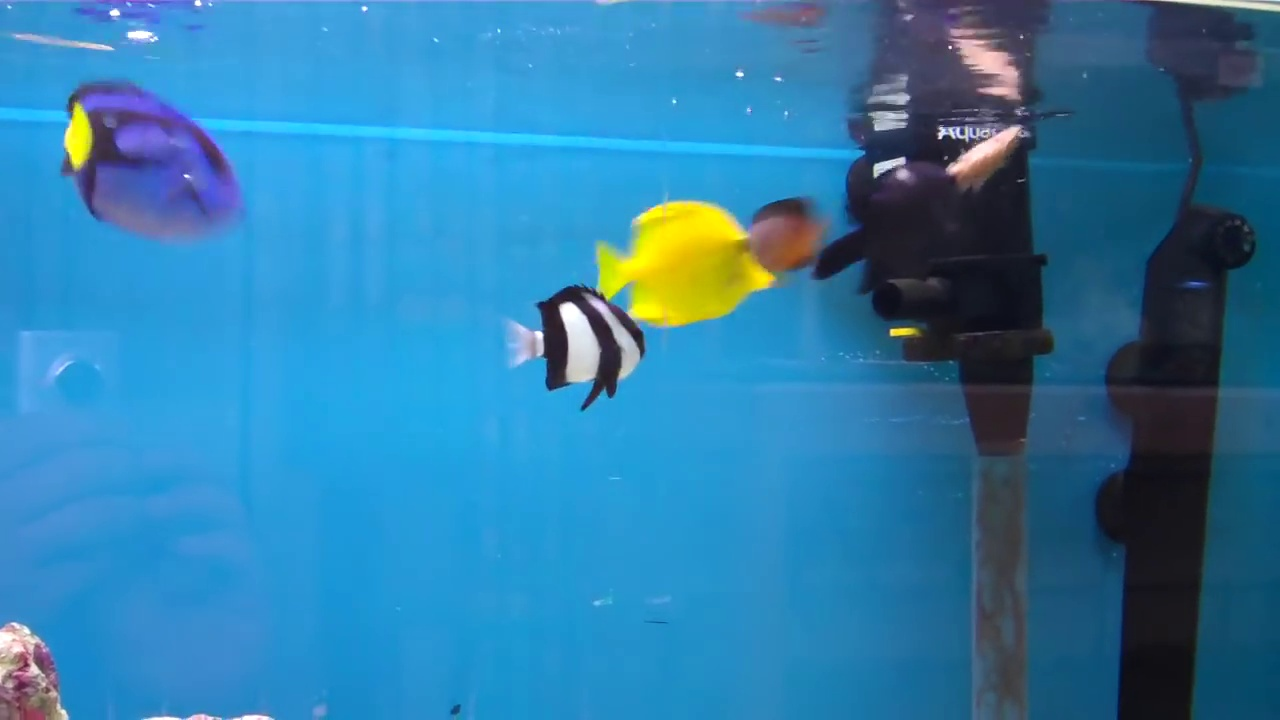blue tang surgeonfish: (38, 55, 265, 251)
saddle butterfly fish: (597, 190, 777, 336)
